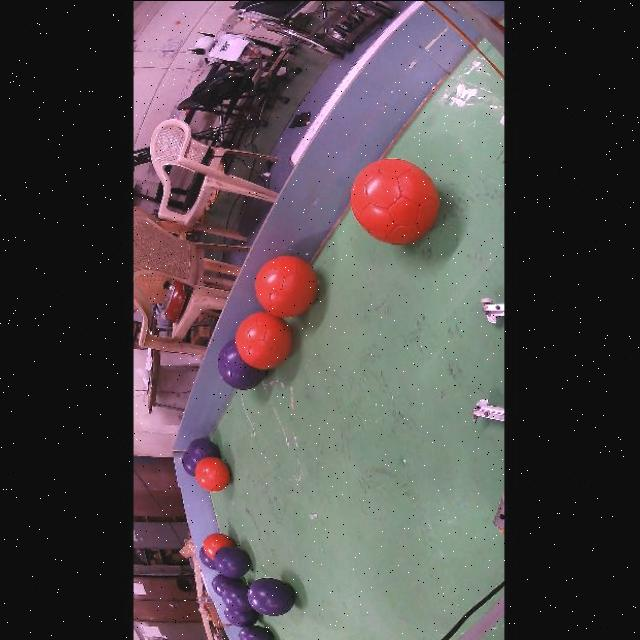P: (218, 338, 267, 389), (247, 577, 296, 616), (183, 438, 221, 475), (214, 545, 251, 577), (223, 582, 252, 612), (212, 573, 243, 595), (225, 607, 259, 626), (239, 625, 274, 640), (199, 546, 217, 569)
R: (352, 158, 440, 244), (256, 254, 318, 316), (236, 311, 294, 368), (196, 456, 230, 491), (203, 532, 236, 558)
